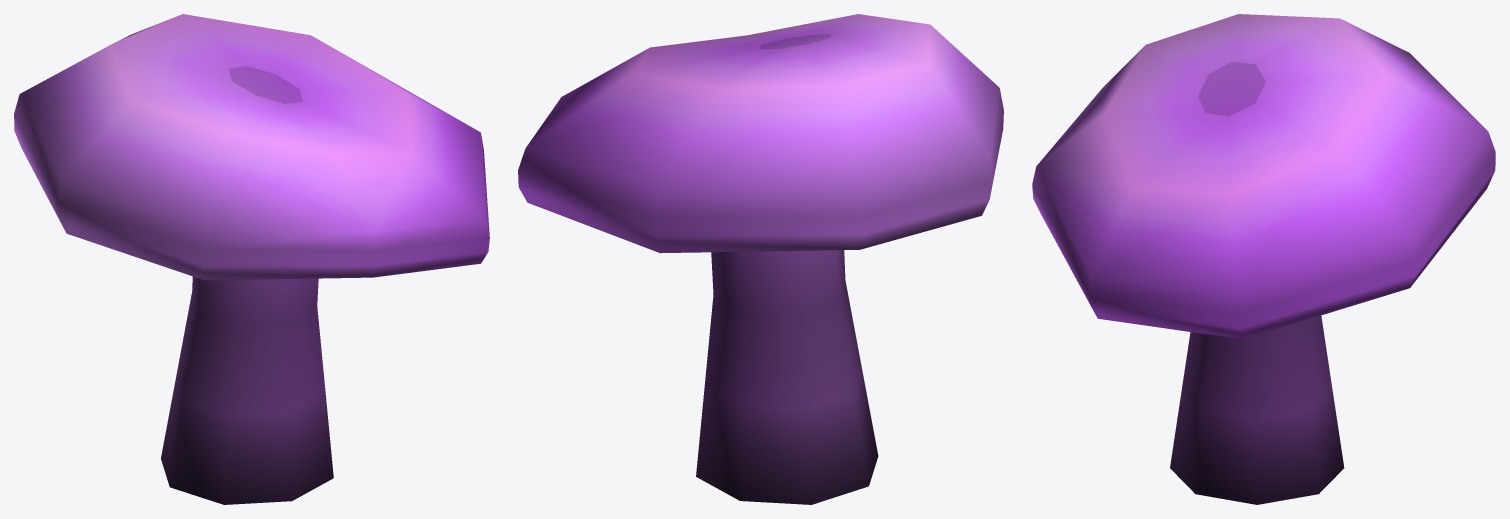
The model's file is Mushroom 1.fbx.
3 views of the same model, side by side, from view 1: azimuth 30°, elevation 25°; view 2: azimuth 150°, elevation 25°; view 3: azimuth 270°, elevation 25° (orthographic). The views are drawn at different scales.
Visible parts, largest first — view 1: Cylinder.001; view 2: Cylinder.001; view 3: Cylinder.001.
Boxes of the visible parts, box(x1,y1,x2,y2) form: Cylinder.001: box(14, 14, 489, 504); Cylinder.001: box(518, 14, 1003, 504); Cylinder.001: box(1032, 14, 1495, 504).
Size of the model in its own units: 26.61 by 25.16 by 26.16.
